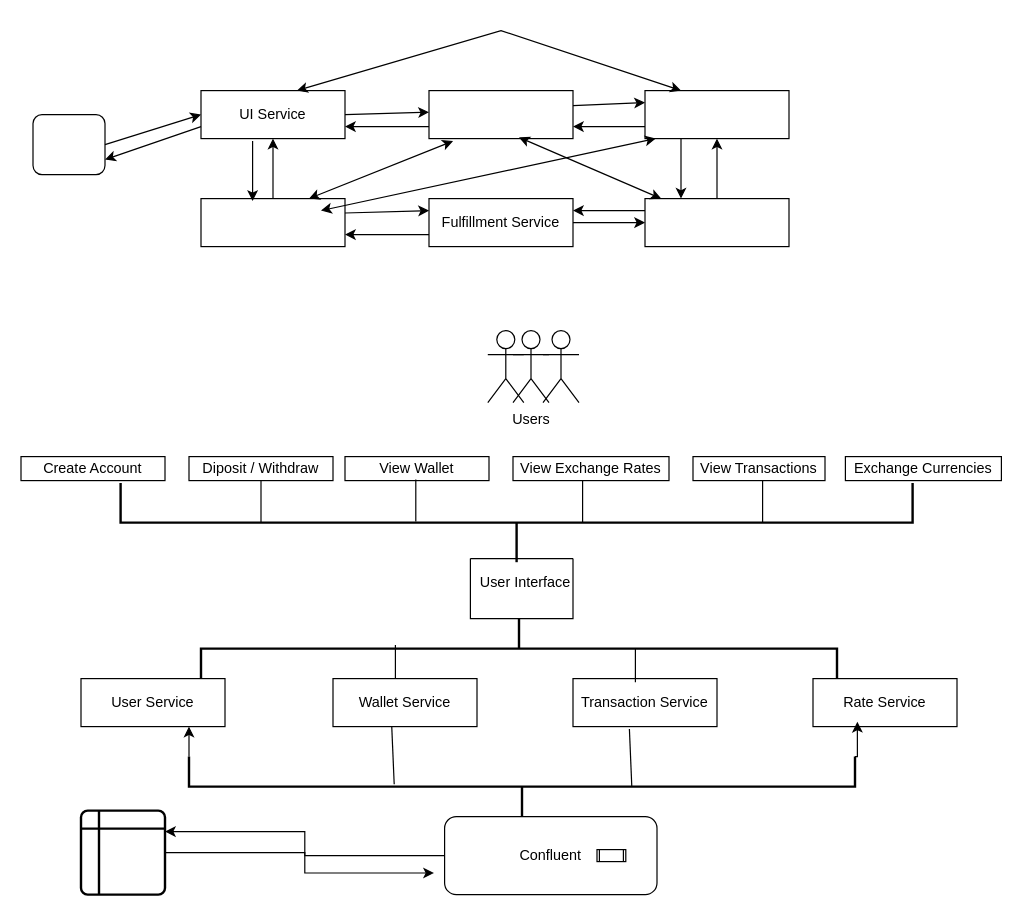
Some shapes in this 1022 by 917 pixel diagram are drawn without their labels. The centre of each missing label's shape, as x and y in pixels:
"legacy Account Store" goes at (x=122, y=852).
"Order Service" goes at (x=500, y=114).
"Payment Service" goes at (x=272, y=222).
"Return Service" goes at (x=716, y=114).
"Stock Service" goes at (x=716, y=222).
"UI" goes at (x=68, y=144).
